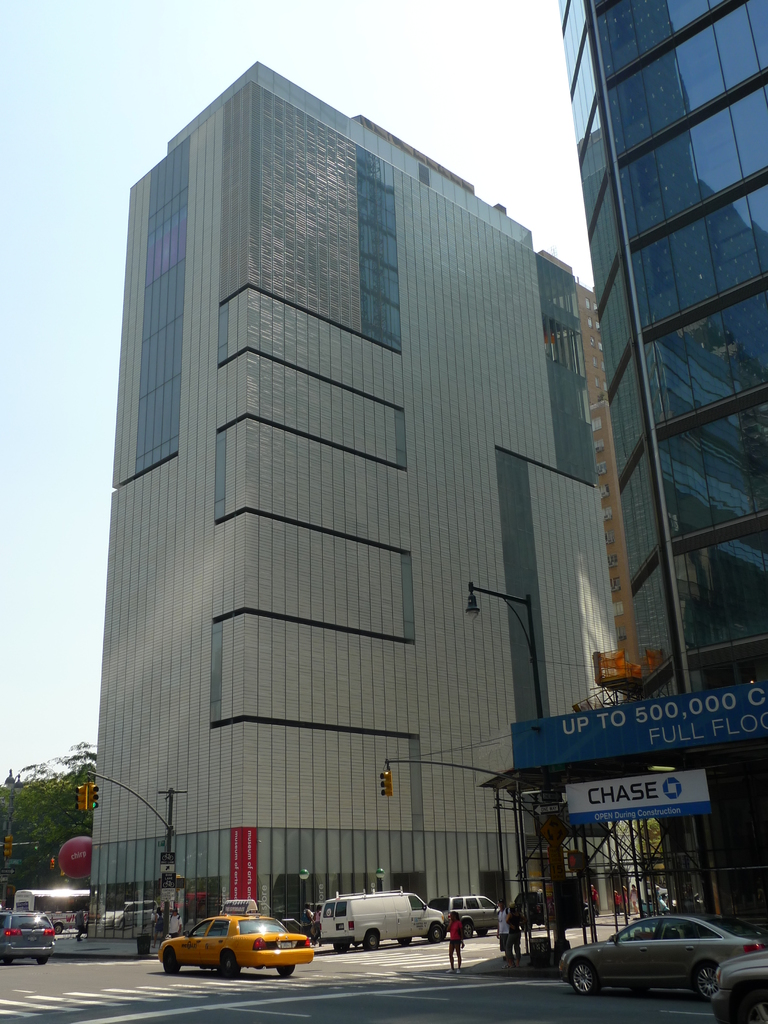Car: (558, 912, 763, 1005), (161, 914, 310, 981), (711, 951, 767, 1023), (0, 910, 58, 970), (431, 891, 508, 936)
